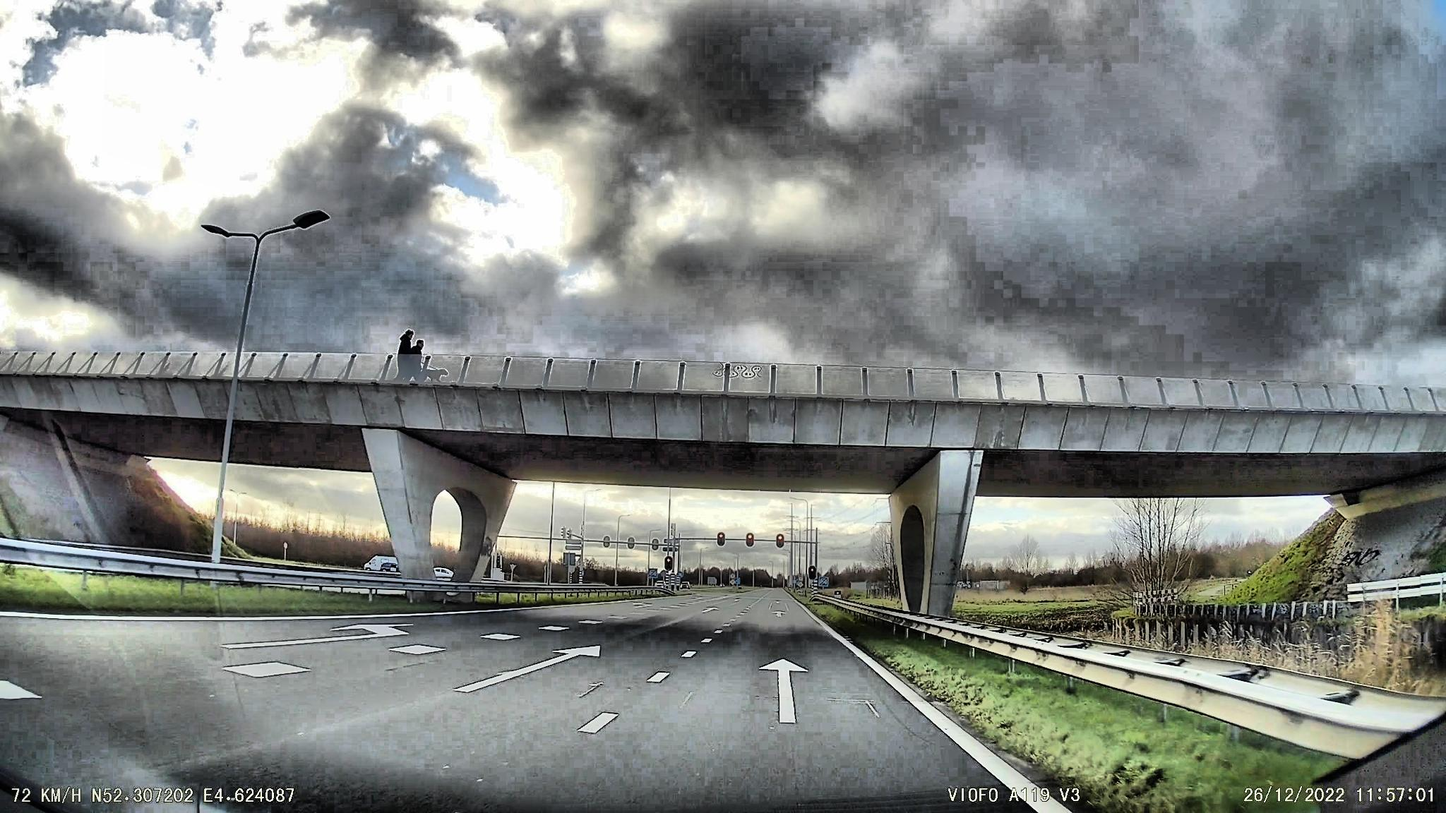Roads: (0, 586, 1095, 813)
